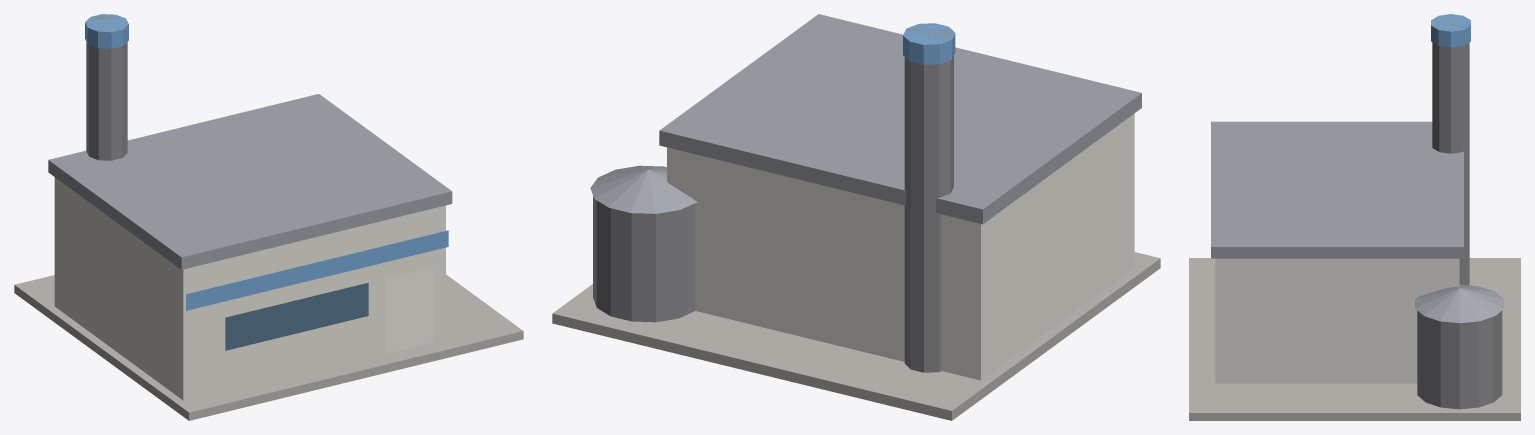
Rendered from gas_power_plant.glb.
3 views of the same model, side by side, from view 1: azimuth 30°, elevation 25°; view 2: azimuth 150°, elevation 25°; view 3: azimuth 270°, elevation 25° (orthographic). The views are drawn at different scales.
Parts seen in each view (by area): view 1: gas_power_plant; view 2: gas_power_plant; view 3: gas_power_plant.
Boxes of the visible parts, box(x1,y1,x2,y2) form: gas_power_plant: box(14, 14, 523, 420); gas_power_plant: box(552, 14, 1160, 420); gas_power_plant: box(1189, 14, 1520, 420).
Size of the model in its own units: 0.84 by 0.68 by 0.76.
